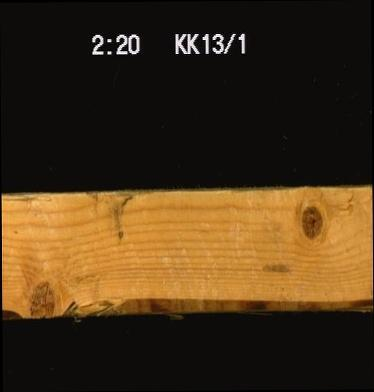sound_knot: (297, 200, 323, 240)
wave: (1, 280, 371, 319)
